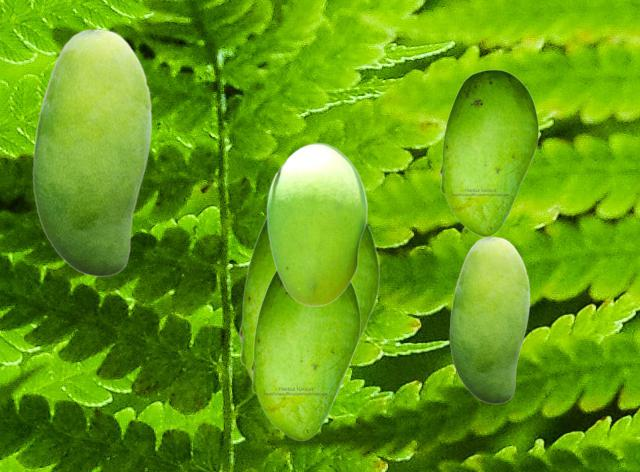green_mango: (32, 28, 151, 276), (238, 217, 379, 398), (250, 270, 360, 440), (439, 69, 538, 236), (266, 142, 366, 305), (449, 236, 529, 403)
